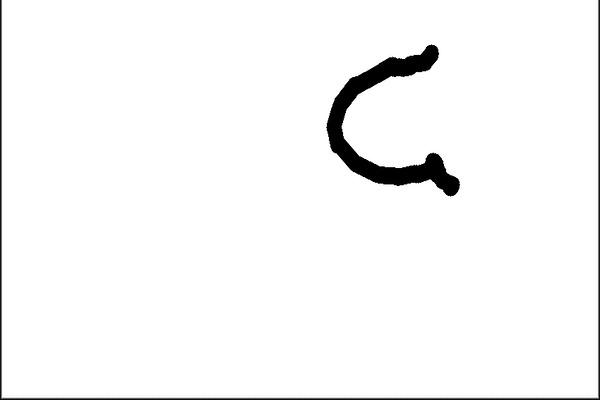C: (321, 40, 466, 199)
